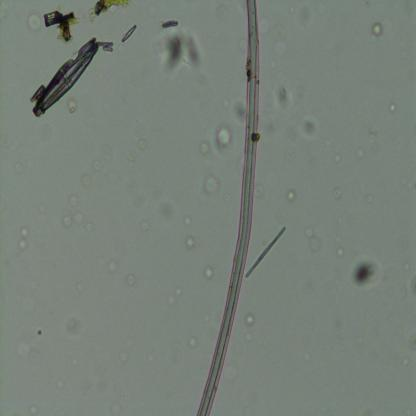Background material: (246, 223, 286, 280), (162, 32, 201, 74), (62, 195, 96, 238), (258, 16, 290, 57), (351, 256, 384, 287), (88, 1, 130, 20), (58, 11, 80, 46), (62, 307, 86, 338), (117, 336, 139, 366), (212, 120, 233, 150), (151, 198, 177, 222), (167, 280, 189, 304), (305, 227, 323, 254), (119, 267, 141, 289), (128, 140, 144, 168), (275, 87, 291, 112), (232, 99, 248, 124), (295, 4, 310, 29), (203, 175, 220, 197), (16, 228, 30, 253), (302, 116, 317, 139), (28, 12, 43, 35), (64, 349, 82, 368), (76, 171, 96, 188), (100, 255, 118, 273), (332, 230, 342, 259), (196, 138, 209, 160), (352, 145, 367, 163), (98, 38, 113, 53), (371, 21, 383, 39), (331, 185, 344, 200), (160, 19, 180, 28), (244, 312, 255, 328), (203, 265, 214, 280), (187, 235, 197, 250), (286, 189, 297, 202), (188, 336, 198, 350), (96, 160, 104, 175), (389, 103, 396, 115)
Diatom: (34, 41, 99, 114), (43, 10, 58, 28), (124, 24, 136, 42)
Microfibre: (196, 1, 259, 415)
